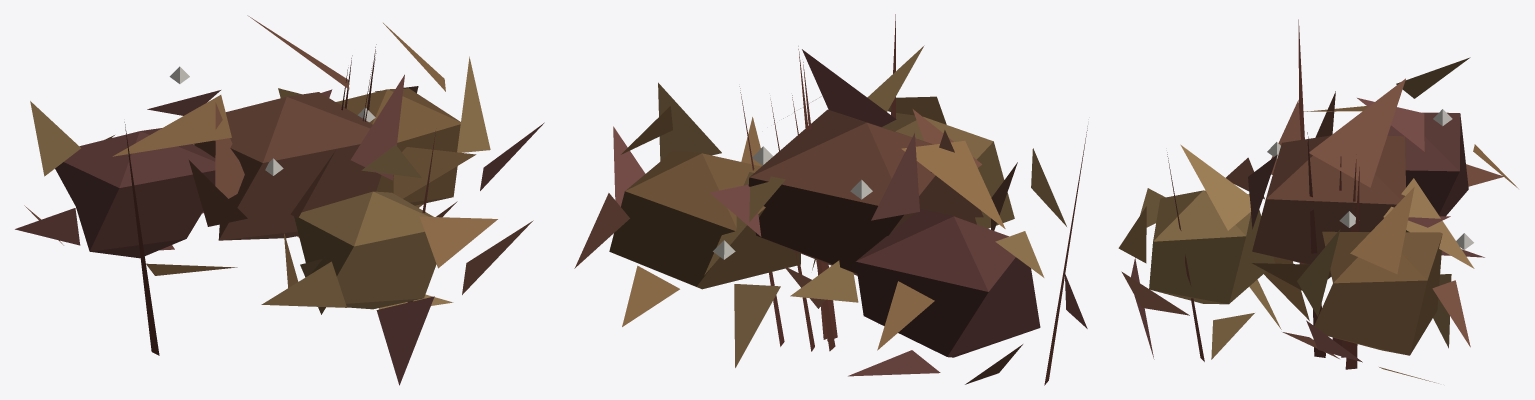
Rendered from buckbrush-lite.glb.
The picture shows the model from 3 angles, left to right: view 1: azimuth 30°, elevation 25°; view 2: azimuth 150°, elevation 25°; view 3: azimuth 270°, elevation 25°; orthographic projection. The views are drawn at different scales.
Parts seen in each view (by area): view 1: buckbrush-lite / foliage, buckbrush-lite / wood; view 2: buckbrush-lite / foliage, buckbrush-lite / wood; view 3: buckbrush-lite / foliage, buckbrush-lite / wood.
Part boxes in pixels (x1,y1,x2,y2): buckbrush-lite / foliage: (15,15,544,385); buckbrush-lite / wood: (124,44,435,355); buckbrush-lite / foliage: (574,45,1087,384); buckbrush-lite / wood: (739,14,1087,385); buckbrush-lite / foliage: (1118,57,1518,383); buckbrush-lite / wood: (1167,19,1359,369).
Bounding box in the file's own units: 1.62 × 0.9089 × 1.22.
